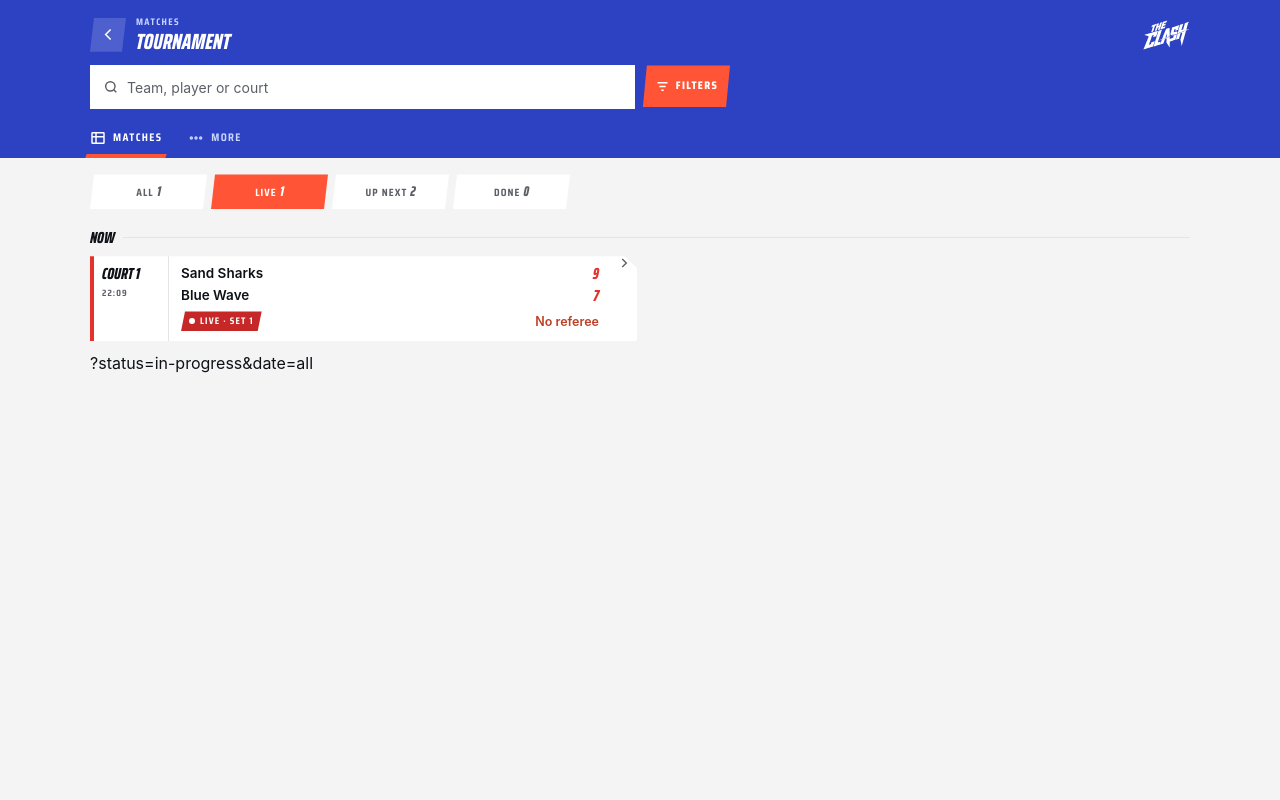
Test: a plain referee's match sheet has Score and Share only
This screenshot has width=1280, height=800.
What coordinates should you click on to do the following:
click the text "Sand Sharks"
I would click on:
 (222, 273)
Its box is [181,265,263,281].
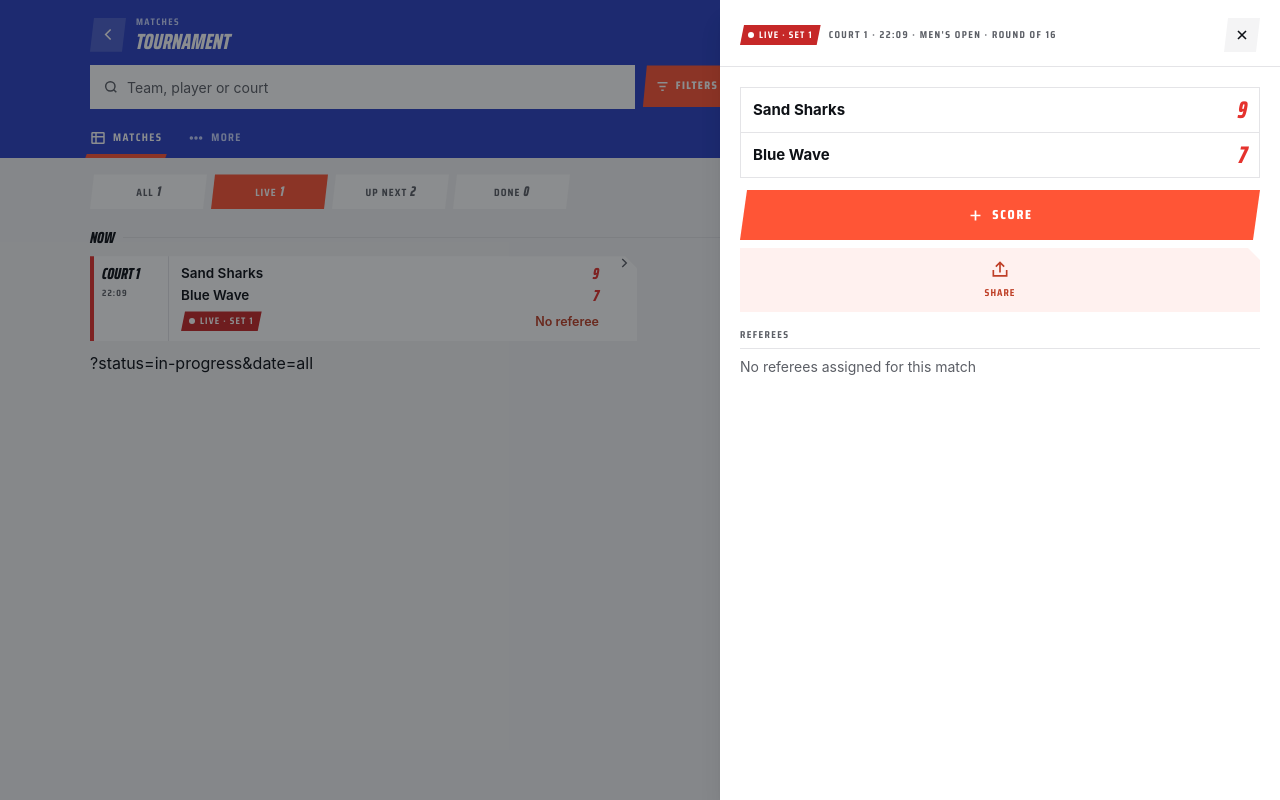
Expected: the button "Score" is shown, [740,190,1260,240]
Expected: the button "Share" is shown, [740,248,1260,312]
